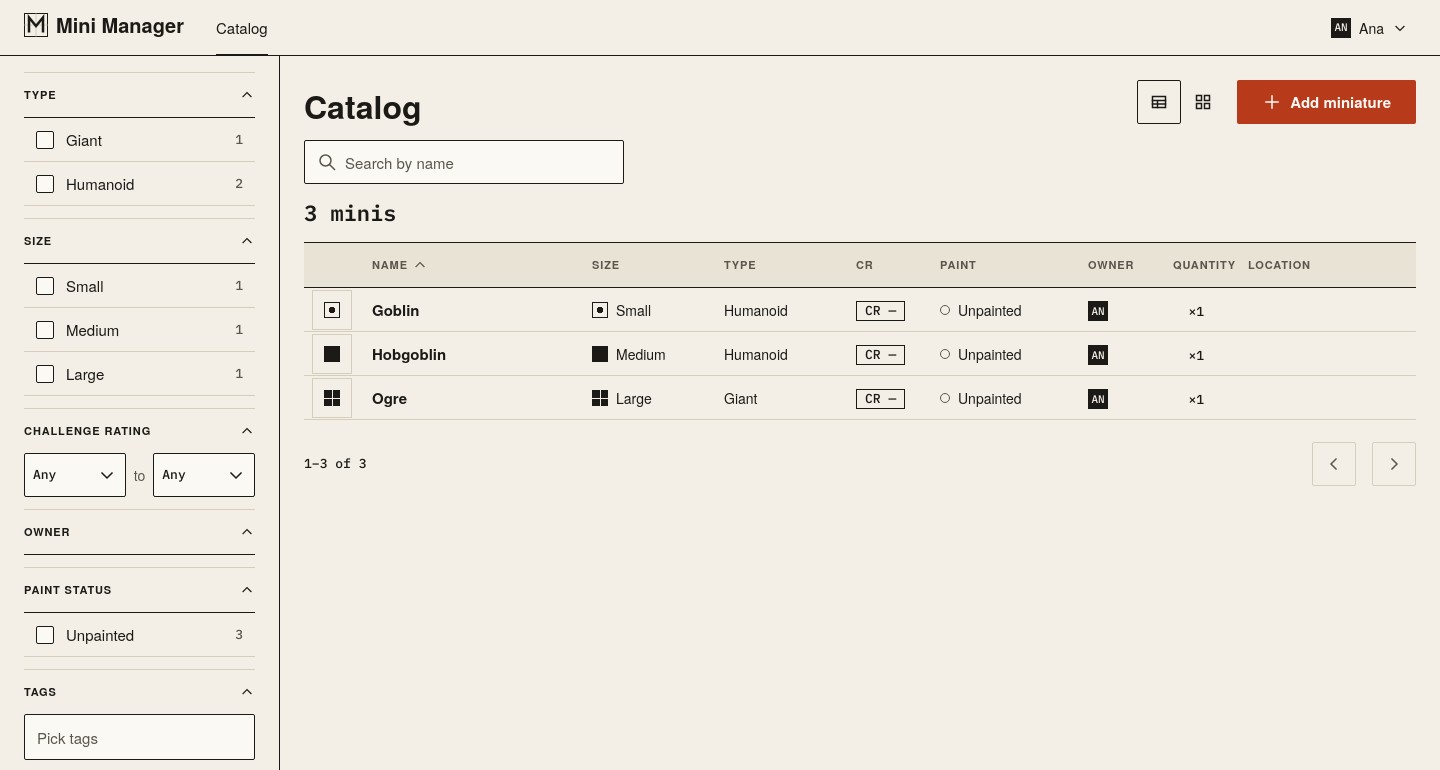
it: FilterControls › card 6 acceptance criterion 4: a minimum CR above the maximum shows the error and is not applied
The image size is (1440, 770).
Select "5" in the dropdown named "Minimum CR" at [75, 475], box [33, 454, 117, 496]
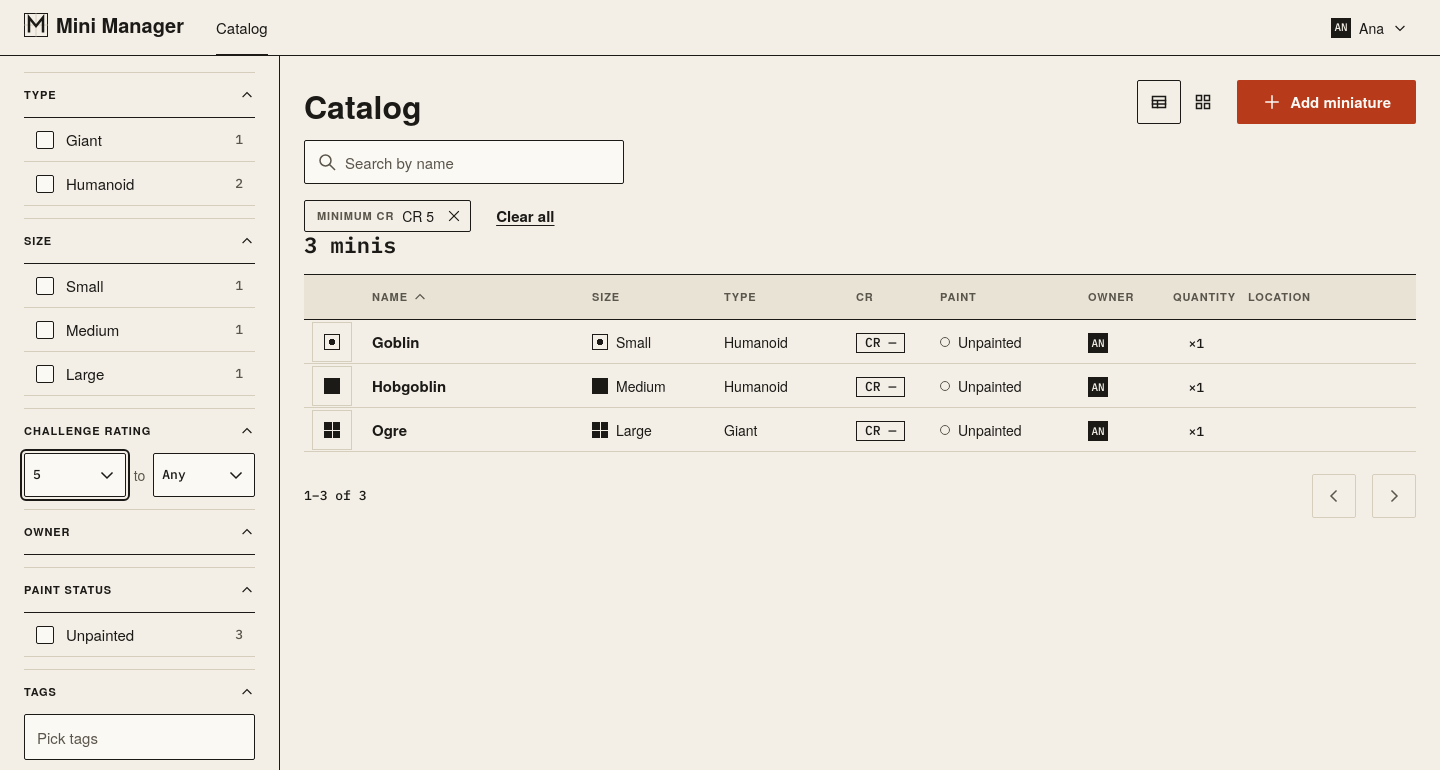
Select "2" in the dropdown named "Maximum CR" at [204, 475], box [162, 454, 246, 496]
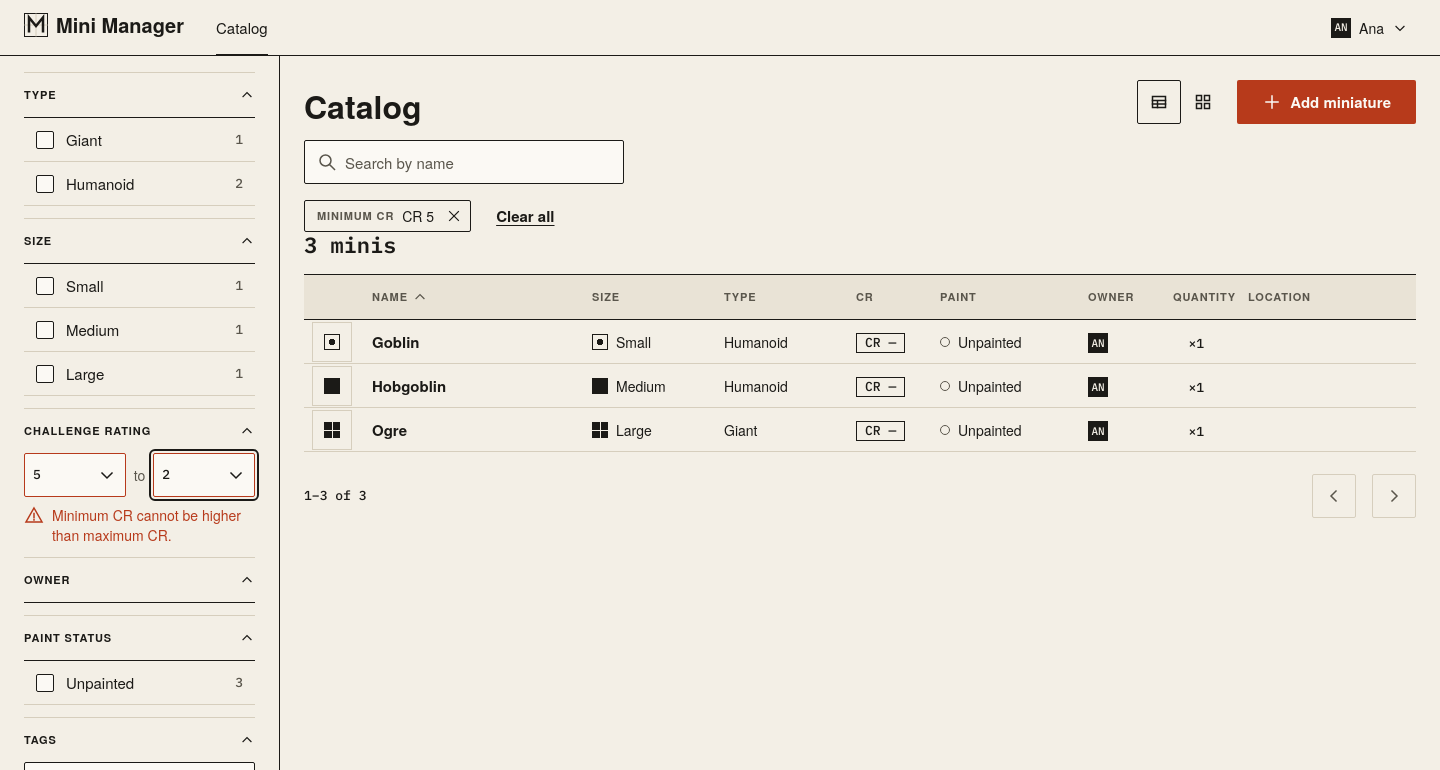
Expected: the text "Minimum CR cannot be higher than maximum CR." is shown, [52, 505, 255, 545]
